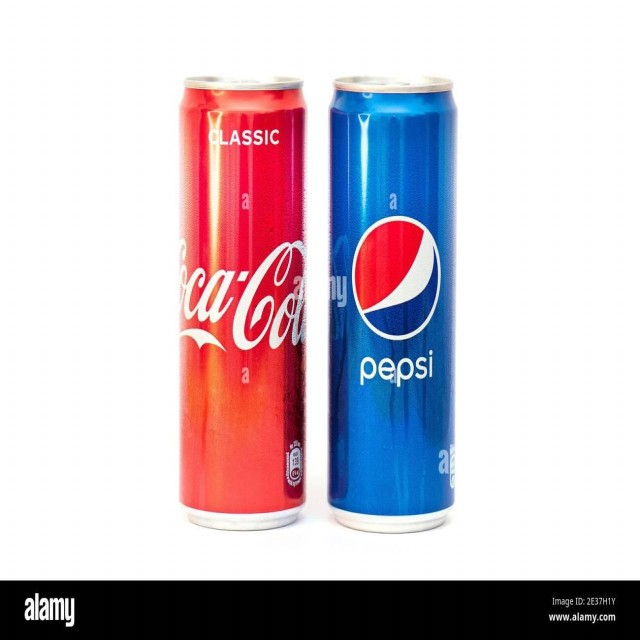pepsi: (353, 218, 441, 343)
